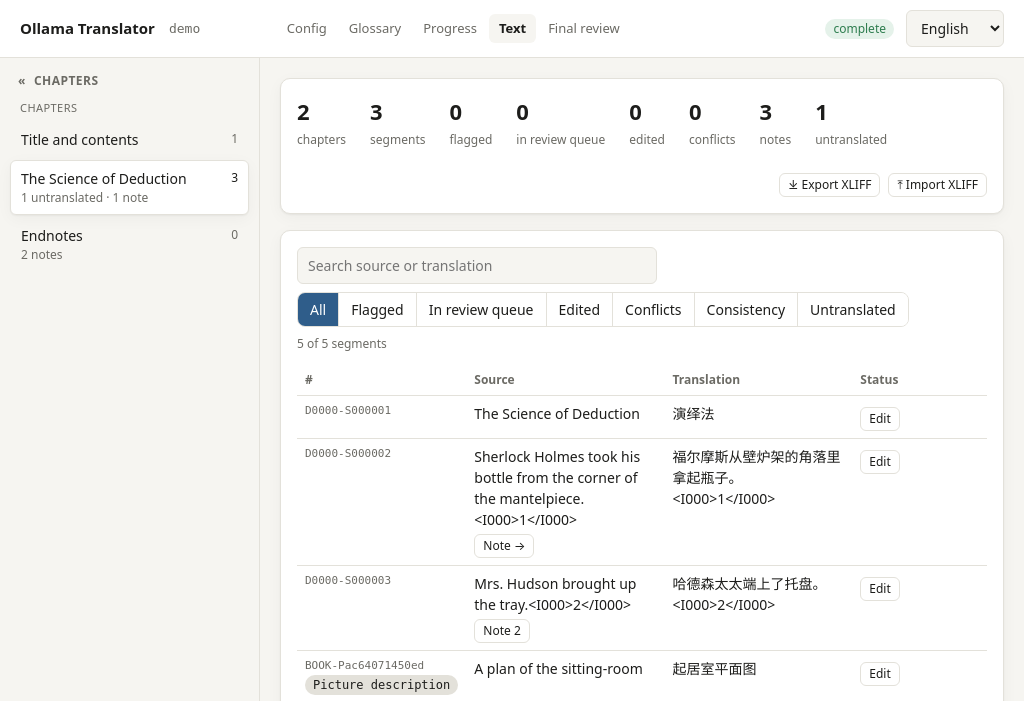
Test case: Text tab: a proofreader checks the notes, the pictures, and the title › corrects the book's title under Title and contents
What coordinates should you click on to do the following:
click the button "Title and contents 1"
I would click on:
 (130, 139)
Its box is [10,120,249,158].
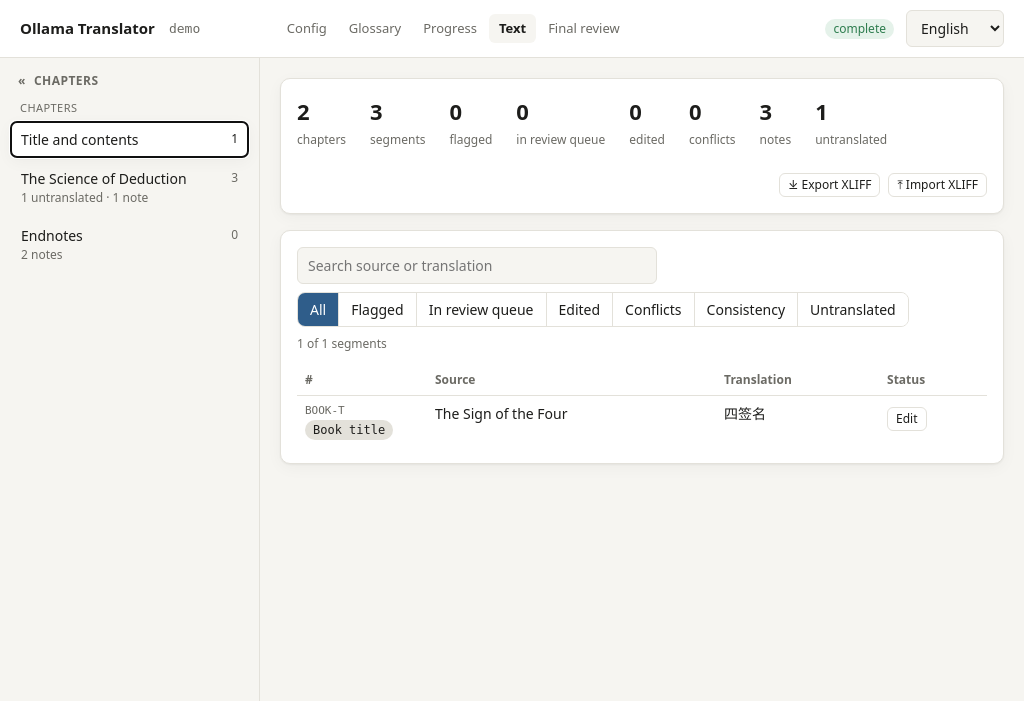
Result: the text "Book title" is shown at [305,420,393,440]
Result: the text "四签名" is shown at [724,404,766,423]
